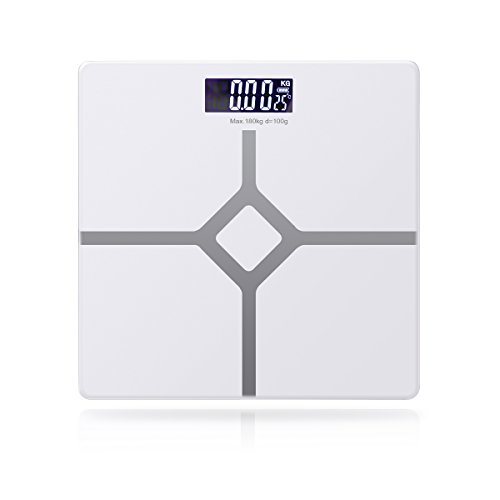LCD: (204, 77, 295, 114)
